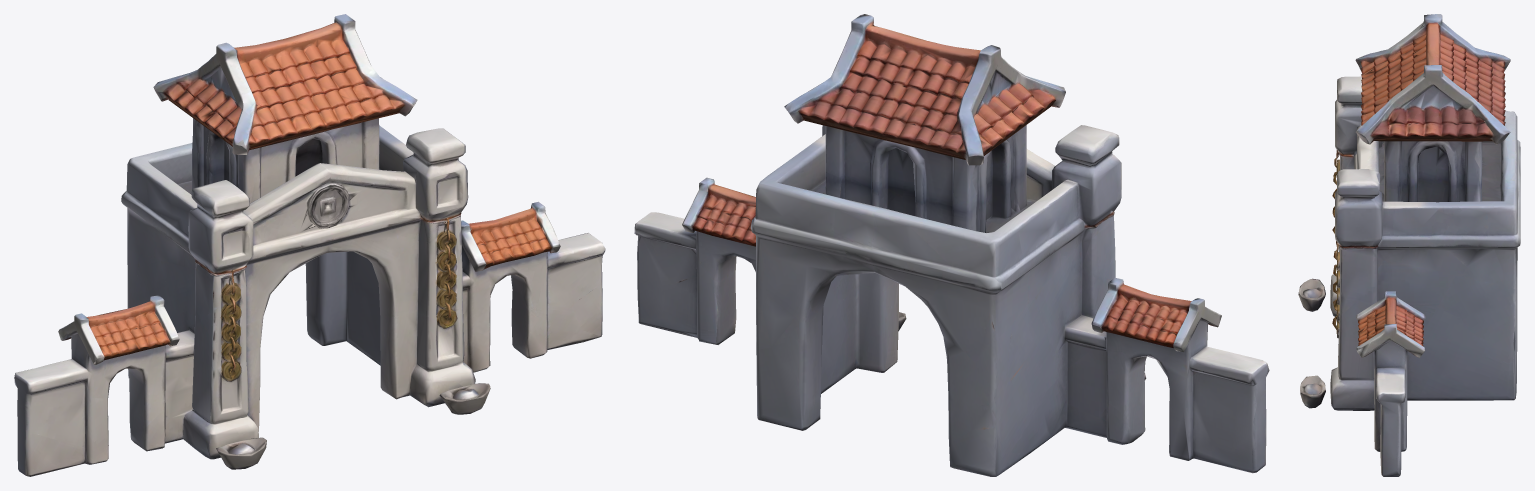
File: cong-lang-bac-vua.8d359af8.glb
3 views of the same model, side by side, from view 1: azimuth 30°, elevation 25°; view 2: azimuth 150°, elevation 25°; view 3: azimuth 270°, elevation 25° (orthographic). The views are drawn at different scales.
Parts seen in each view (by area): view 1: tripo_node_dccabd12-5fb9-401d-8ad4-54225830297c; view 2: tripo_node_dccabd12-5fb9-401d-8ad4-54225830297c; view 3: tripo_node_dccabd12-5fb9-401d-8ad4-54225830297c.
Boxes of the visible parts, x1,y1,x2,y2 form: tripo_node_dccabd12-5fb9-401d-8ad4-54225830297c: (14, 14, 605, 476); tripo_node_dccabd12-5fb9-401d-8ad4-54225830297c: (634, 14, 1269, 476); tripo_node_dccabd12-5fb9-401d-8ad4-54225830297c: (1298, 14, 1520, 476).
Size of the model in its own units: 0.9791 by 0.5761 by 0.3701.
Materials: 1 (1 with a texture image).
